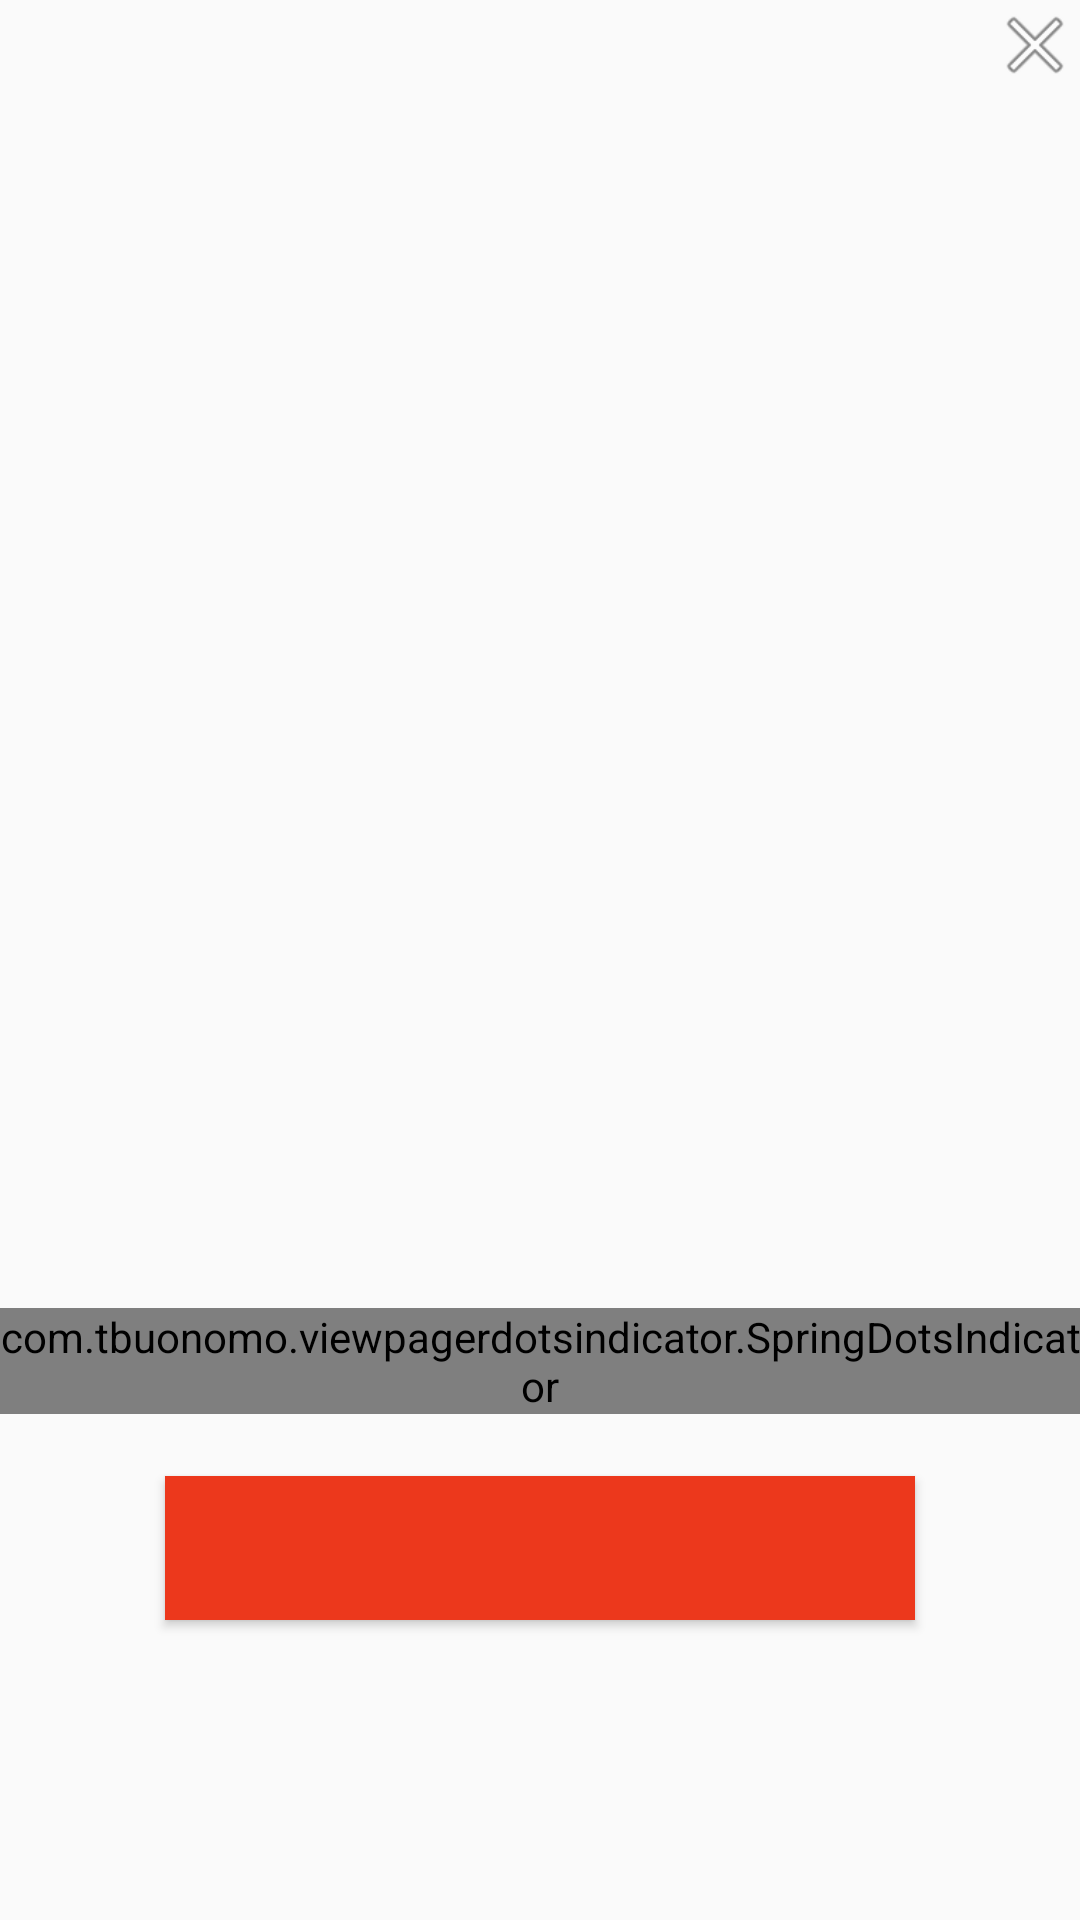

Point at icon controls on the screen. Image size 1080×1920, points as (x,y).
close clear cancel: (1035,45)
